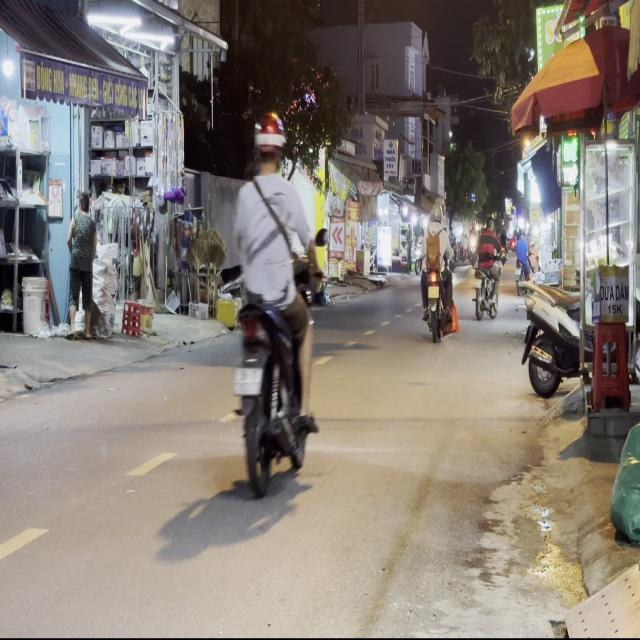helmet: (251, 110, 287, 174)
licenseplate: (221, 107, 321, 489)
nohelmet: (233, 366, 262, 394)
